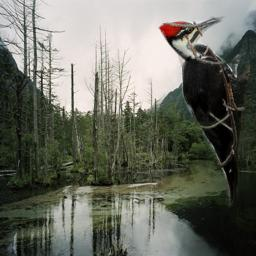Woodpecker: (158, 15, 250, 213)
